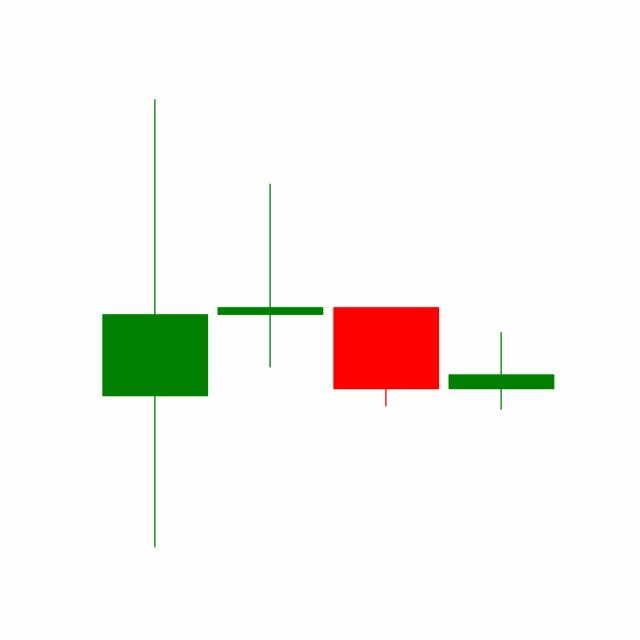Gravestone Doji: (443, 330, 559, 410)
